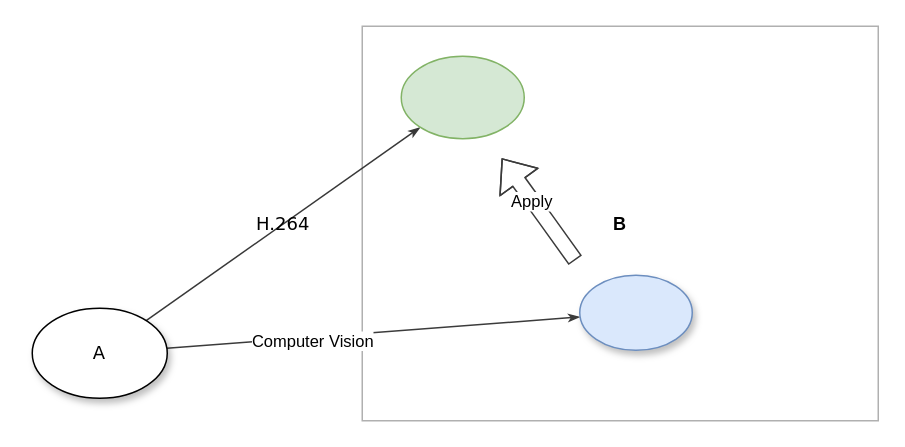
Image size: 905x447. Some labels were removed from this diagram. The centre of each missing label's shape, as x and y in pixels:
"Region of Interest" goes at point (462, 97).
"UI Text" goes at point (636, 314).
